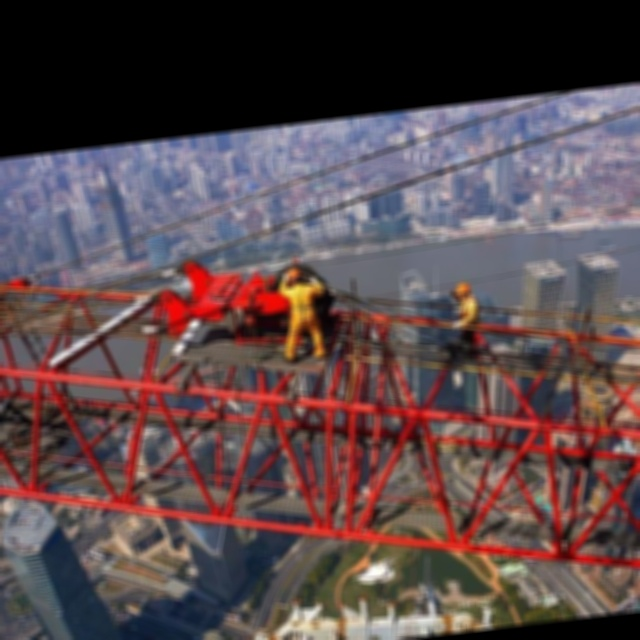Con_Casco: (285, 267, 302, 287), (455, 282, 472, 302)
